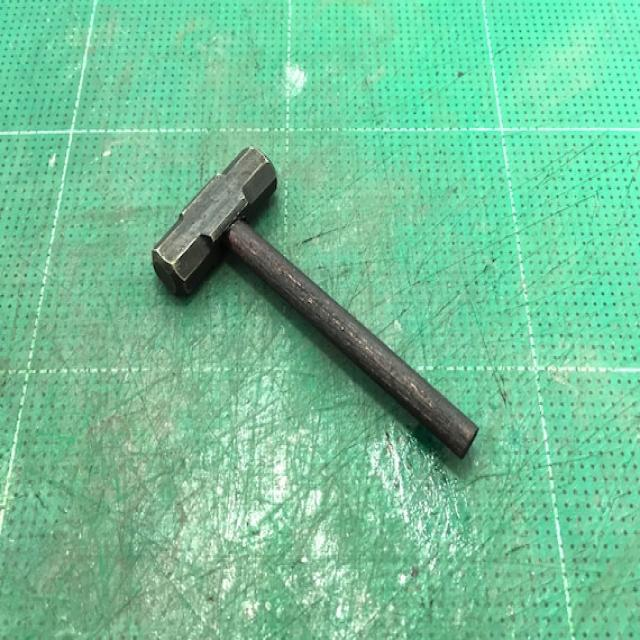hammer: (147, 137, 484, 470)
